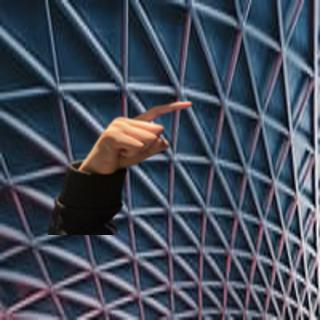WHY: (78, 95, 198, 175)
